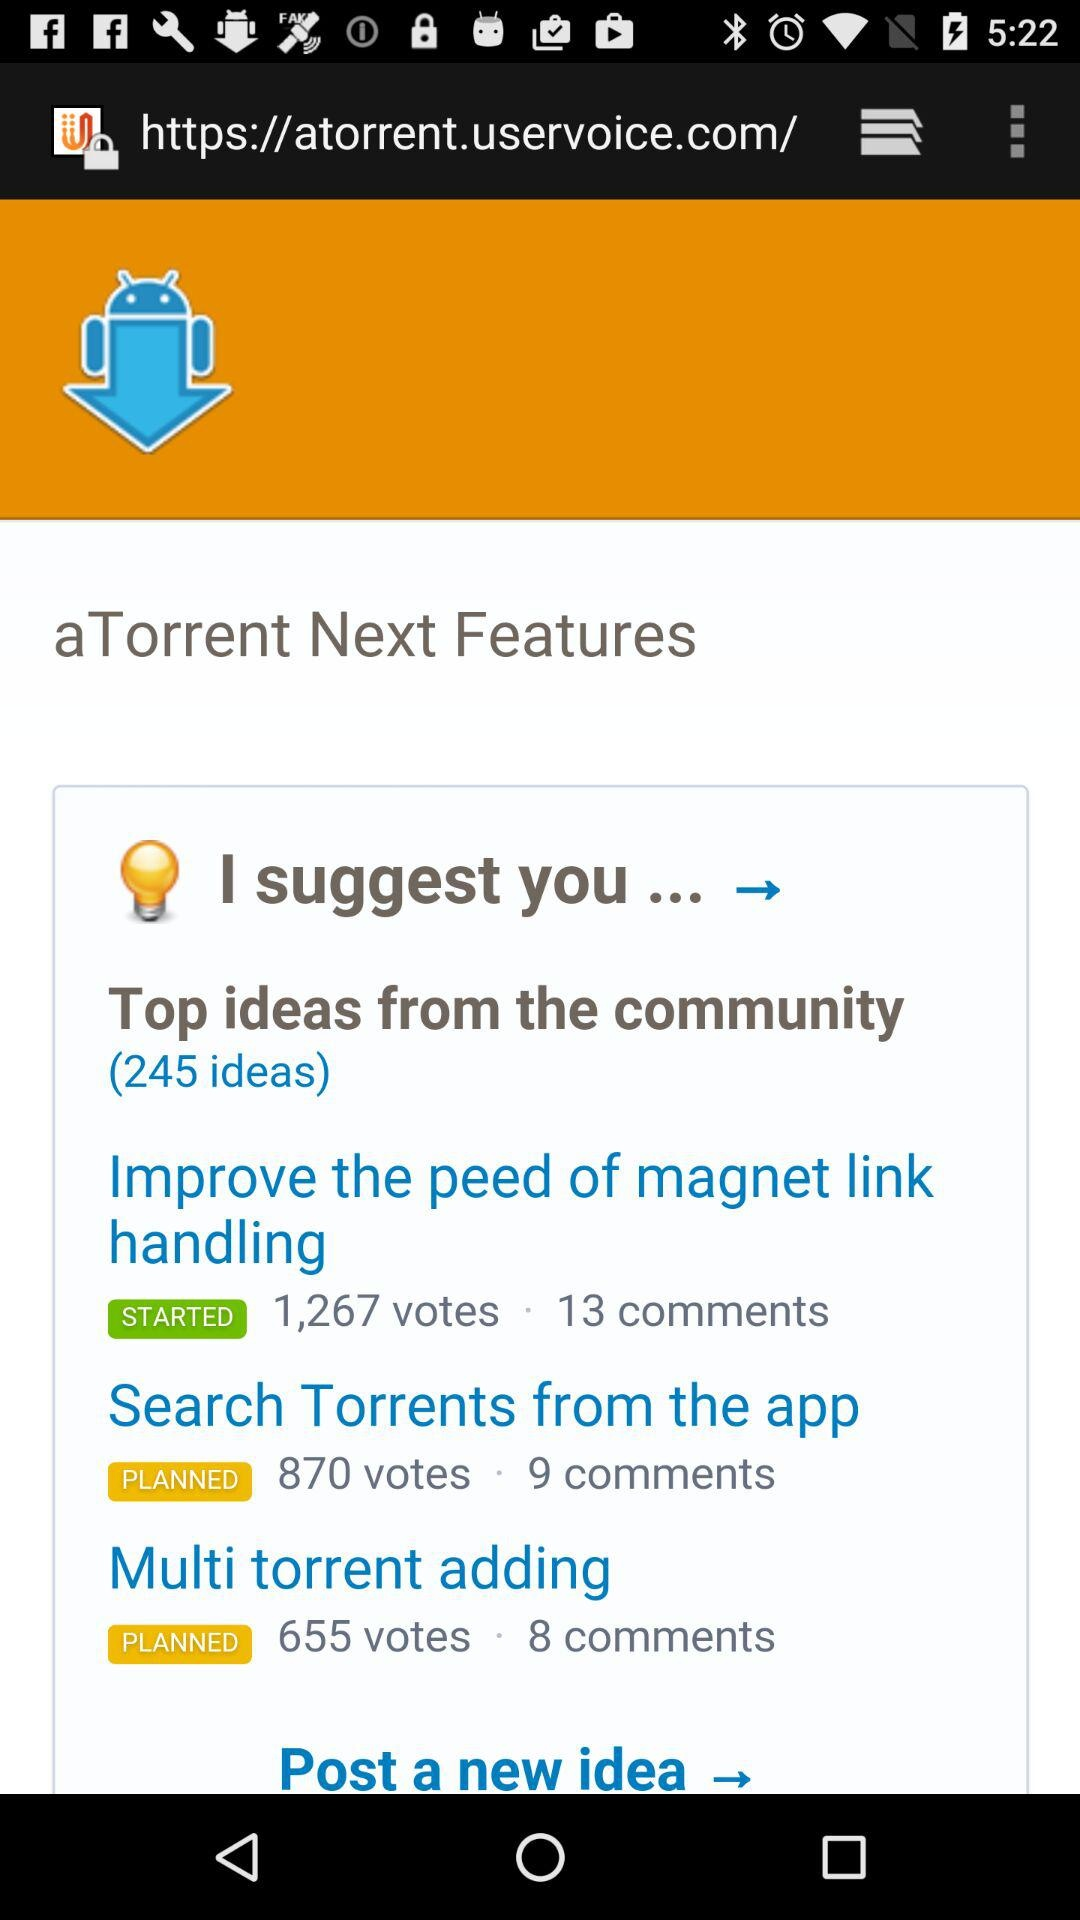Bar: (5, 63, 1075, 200)
ImageView: (25, 88, 140, 173)
SpecialButton: (828, 63, 953, 200)
